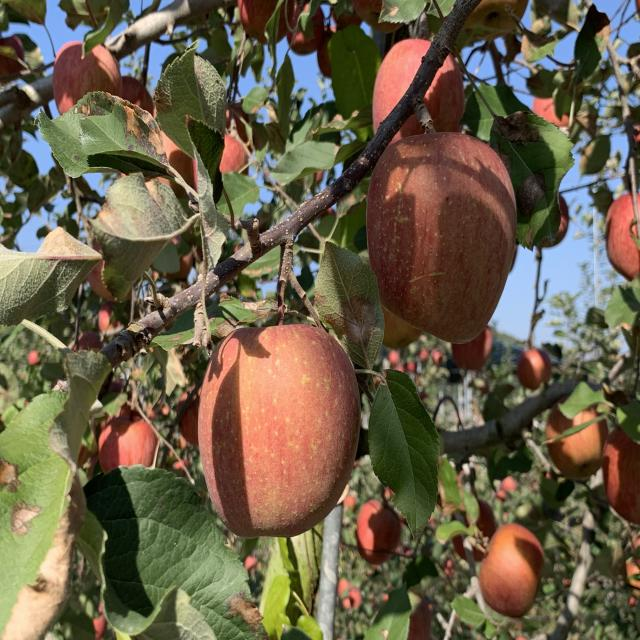fresh: (194, 318, 366, 544), (361, 121, 525, 348)
